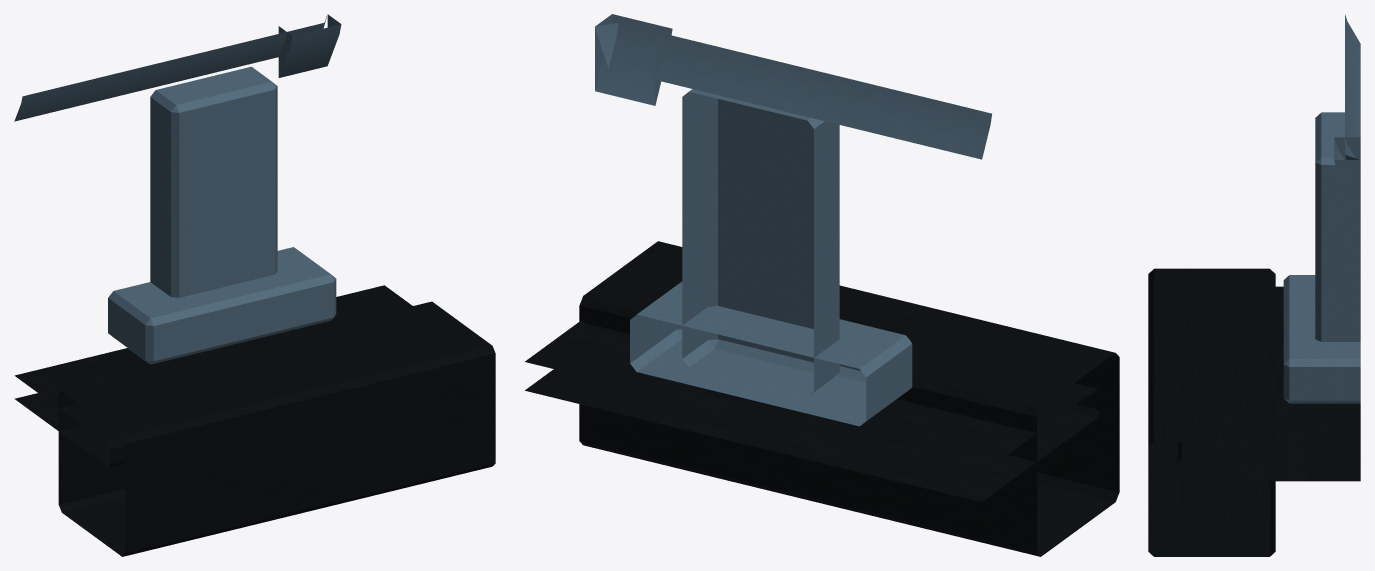
The model's file is cell_16.obj.
3 views of the same model, side by side, from view 1: azimuth 30°, elevation 25°; view 2: azimuth 150°, elevation 25°; view 3: azimuth 270°, elevation 25° (orthographic). The views are drawn at different scales.
Visible parts, largest first — view 1: cell_16; view 2: cell_16; view 3: cell_16.
Part boxes in pixels (x1=…): cell_16: x1=14, y1=14, x2=495, y2=556; cell_16: x1=525, y1=14, x2=1119, y2=556; cell_16: x1=1148, y1=14, x2=1360, y2=556.
Size of the model in its own units: 1 by 1 by 0.52.
